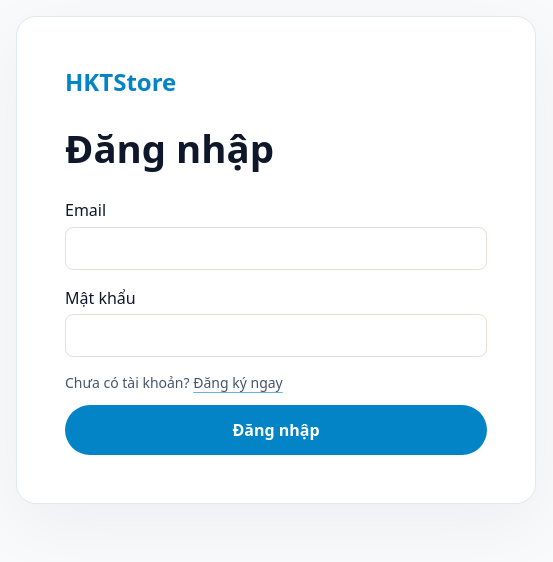
Scenario: Login UX › maps AUTH_INVALID_CREDENTIALS
The width and height of the screenshot is (553, 562).
Type "customer@test.local" into the field labelled "Email" at (276, 248), box x1=65 y1=227 x2=487 y2=270
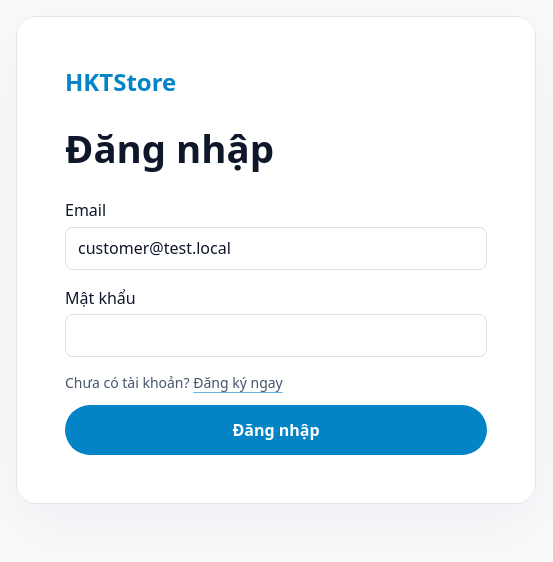
Type "Password123" into the password field labelled "Mật khẩu" at (276, 336), box x1=65 y1=314 x2=487 y2=357
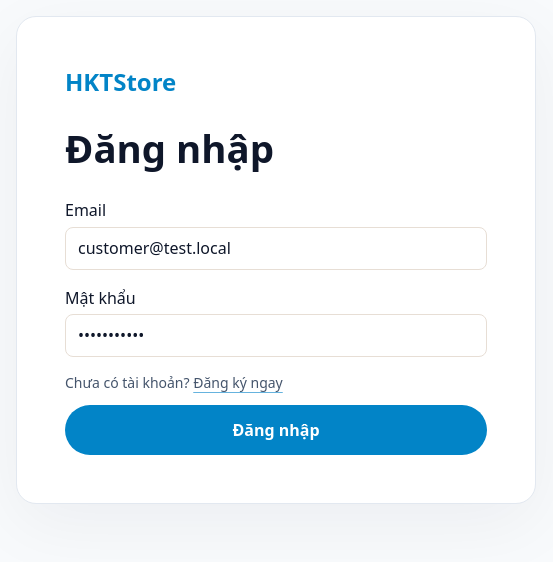
Click the button "Đăng nhập" at (276, 430), box x1=65 y1=405 x2=487 y2=455
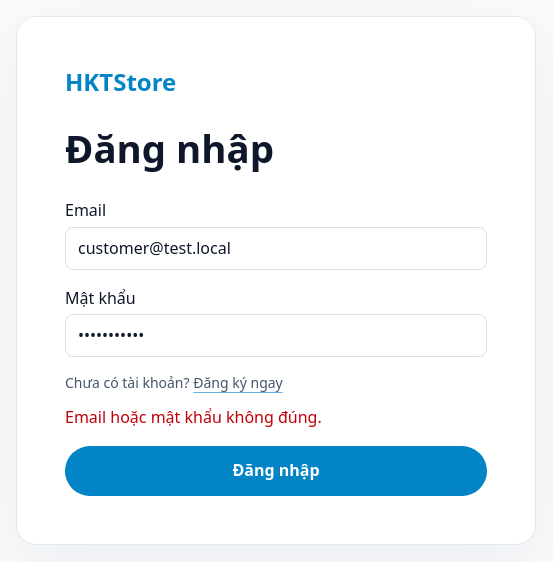
Now the message reads "Email hoặc mật khẩu không đúng.", box x1=65 y1=406 x2=322 y2=428
